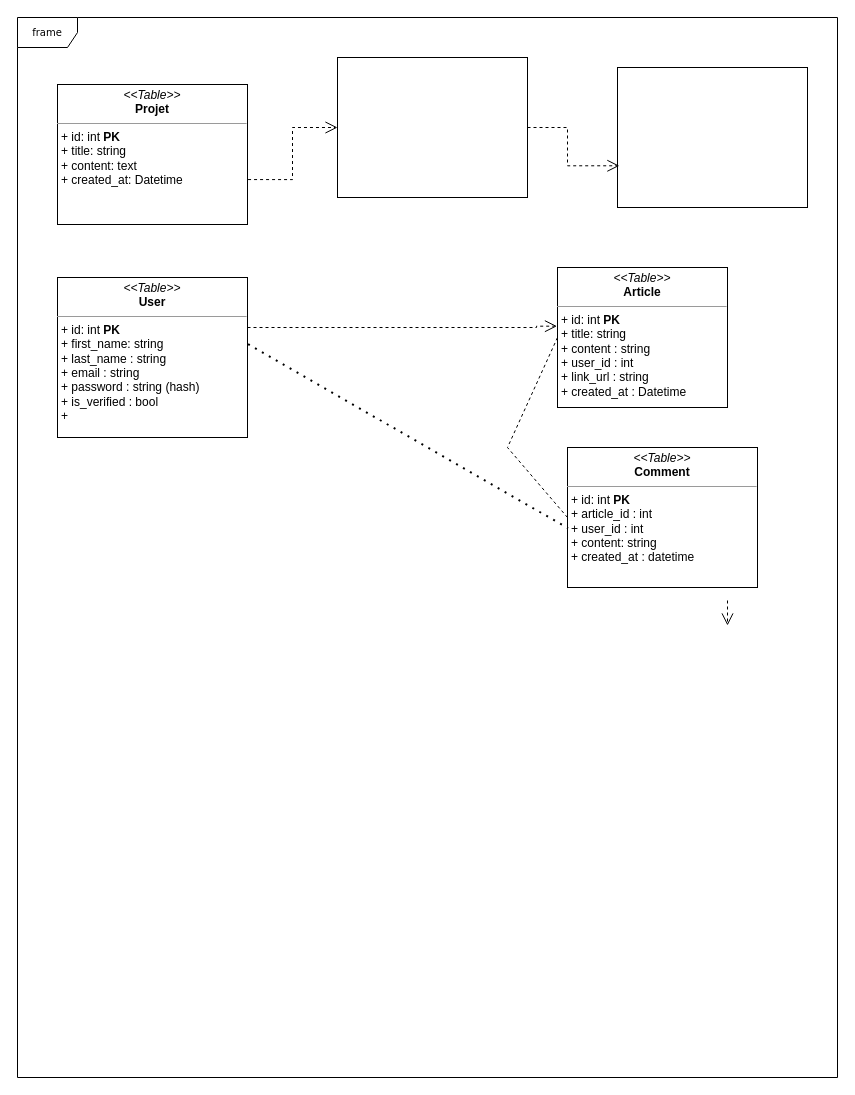
Some shapes in this 855 by 1095 pixel diagram are drawn without their labels. Here are the shapes that lost their labels. From the top down, the box of each, then its label:
(336, 56, 528, 198): <<Table>> Project_language + id: int PK + project_id: int +language_id : int
(616, 66, 808, 208): <<Table> Language + id : int PK + name : string + img_name: string
